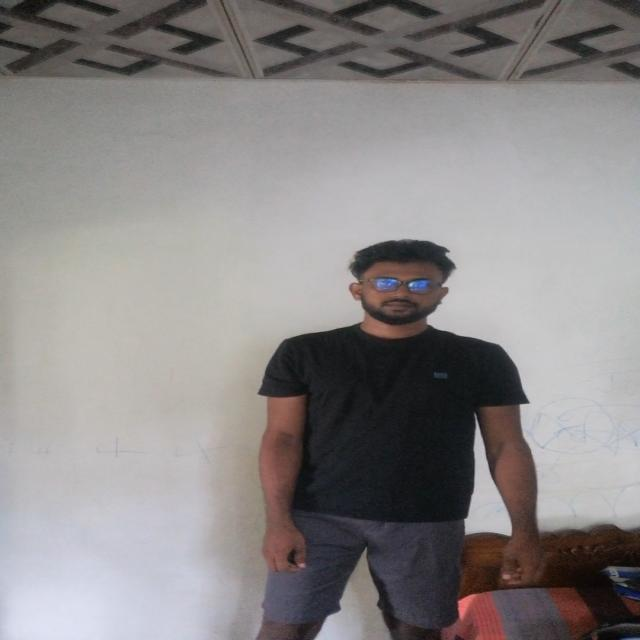Person: (256, 240, 548, 640)
